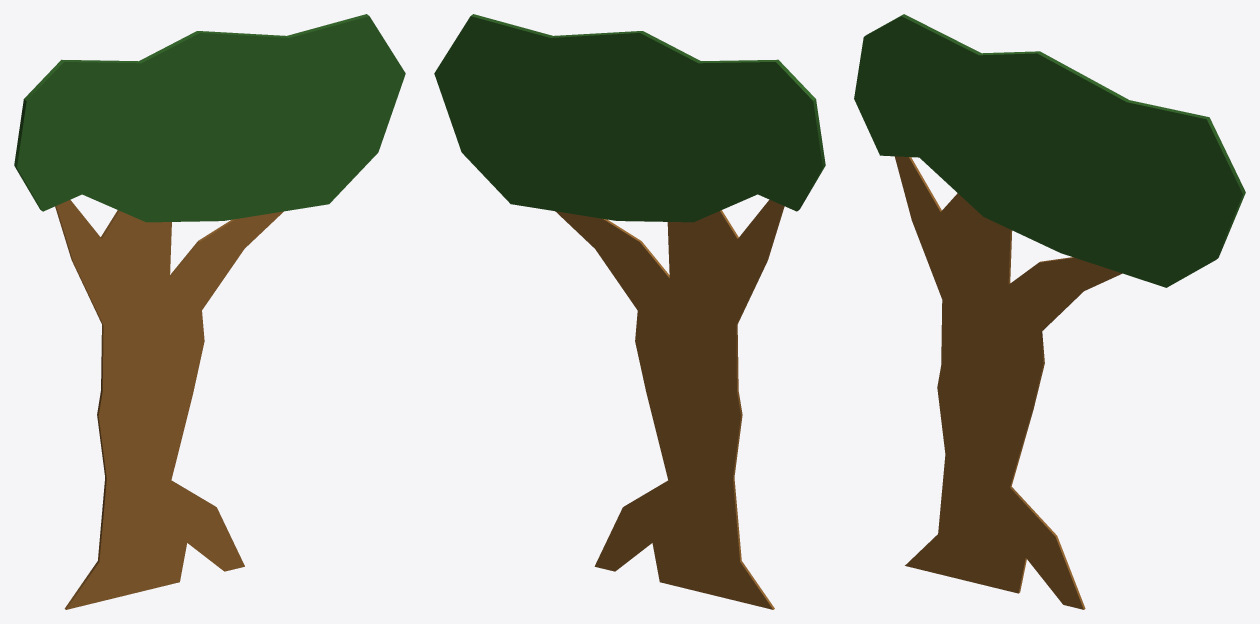
Rendered from ProtoTree1.fbx.
3 views of the same model, side by side, from view 1: azimuth 30°, elevation 25°; view 2: azimuth 150°, elevation 25°; view 3: azimuth 330°, elevation 25° (orthographic).
Visible parts, largest first — view 1: Tree1; view 2: Tree1; view 3: Tree1.
Boxes of the visible parts, box(x1,y1,x2,y2) form: Tree1: box(14, 14, 405, 609); Tree1: box(434, 14, 825, 609); Tree1: box(854, 14, 1245, 609).
Bounding box in the file's own units: 329 × 445 × 4.18.
